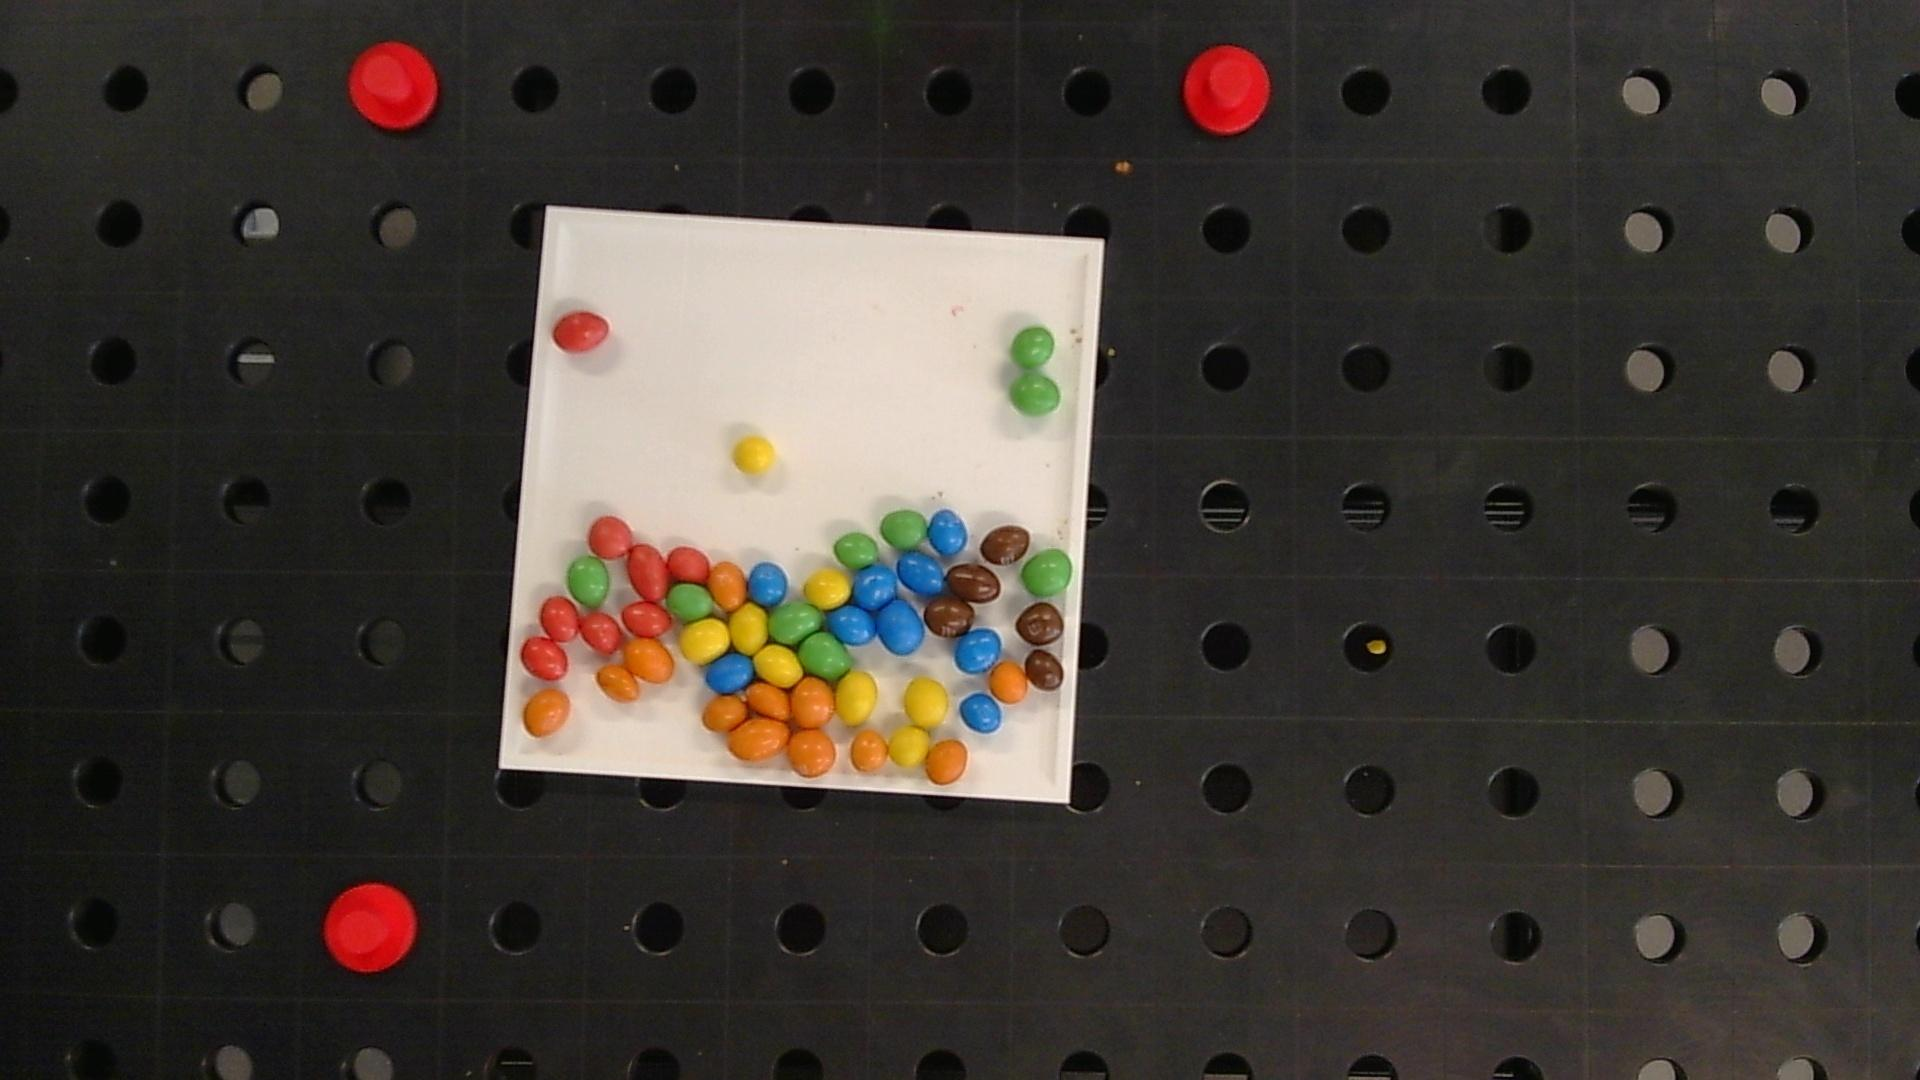blue: (877, 600, 924, 653), (955, 629, 1001, 674), (897, 551, 944, 595), (853, 567, 898, 611), (827, 607, 877, 645), (705, 654, 754, 692), (927, 509, 968, 554), (960, 694, 1002, 733), (749, 562, 789, 604)
brown: (1015, 603, 1064, 646), (947, 564, 1001, 601), (980, 525, 1030, 564), (926, 599, 973, 637), (1026, 651, 1064, 690)
green: (1009, 372, 1062, 417), (1022, 550, 1072, 596), (800, 633, 851, 679), (770, 601, 823, 644), (567, 556, 611, 607), (1011, 327, 1055, 368), (835, 531, 878, 568), (669, 584, 712, 620), (884, 510, 926, 546)
orange: (728, 717, 790, 760), (624, 637, 674, 683), (787, 729, 836, 775), (524, 690, 571, 736), (791, 679, 835, 728), (926, 740, 967, 783), (709, 562, 746, 608), (703, 694, 746, 732), (849, 729, 887, 771), (748, 682, 791, 719), (597, 665, 638, 702), (990, 661, 1027, 702)
red: (551, 310, 609, 353), (628, 543, 669, 600), (521, 637, 568, 680), (588, 516, 633, 558), (541, 596, 579, 641), (622, 601, 671, 636), (579, 612, 621, 651), (667, 546, 711, 582)
yellow: (680, 618, 729, 663), (836, 671, 877, 724), (905, 678, 948, 727), (729, 604, 767, 653), (804, 570, 852, 608), (887, 725, 930, 766), (757, 645, 800, 684), (733, 436, 775, 473)
